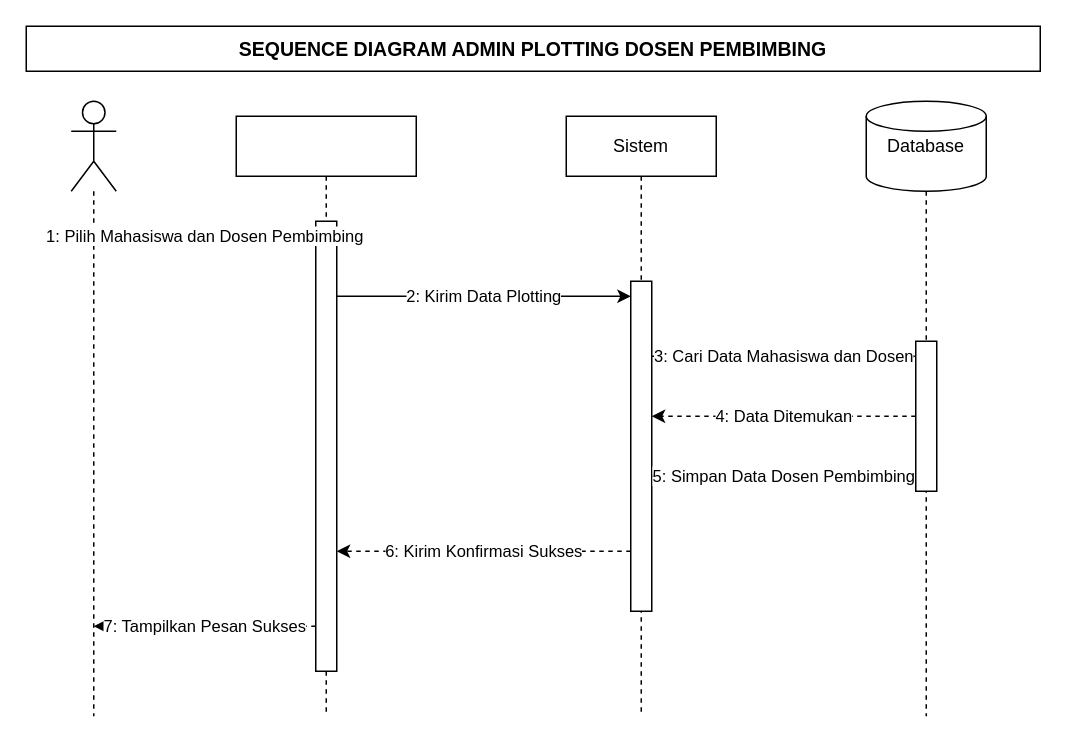
This 1067x744 diagram has some shape labels left out. Each missing label, with the box of its shape:
Admin: (70, 100, 116, 191)
Halaman Plotting: (235, 115, 416, 176)
